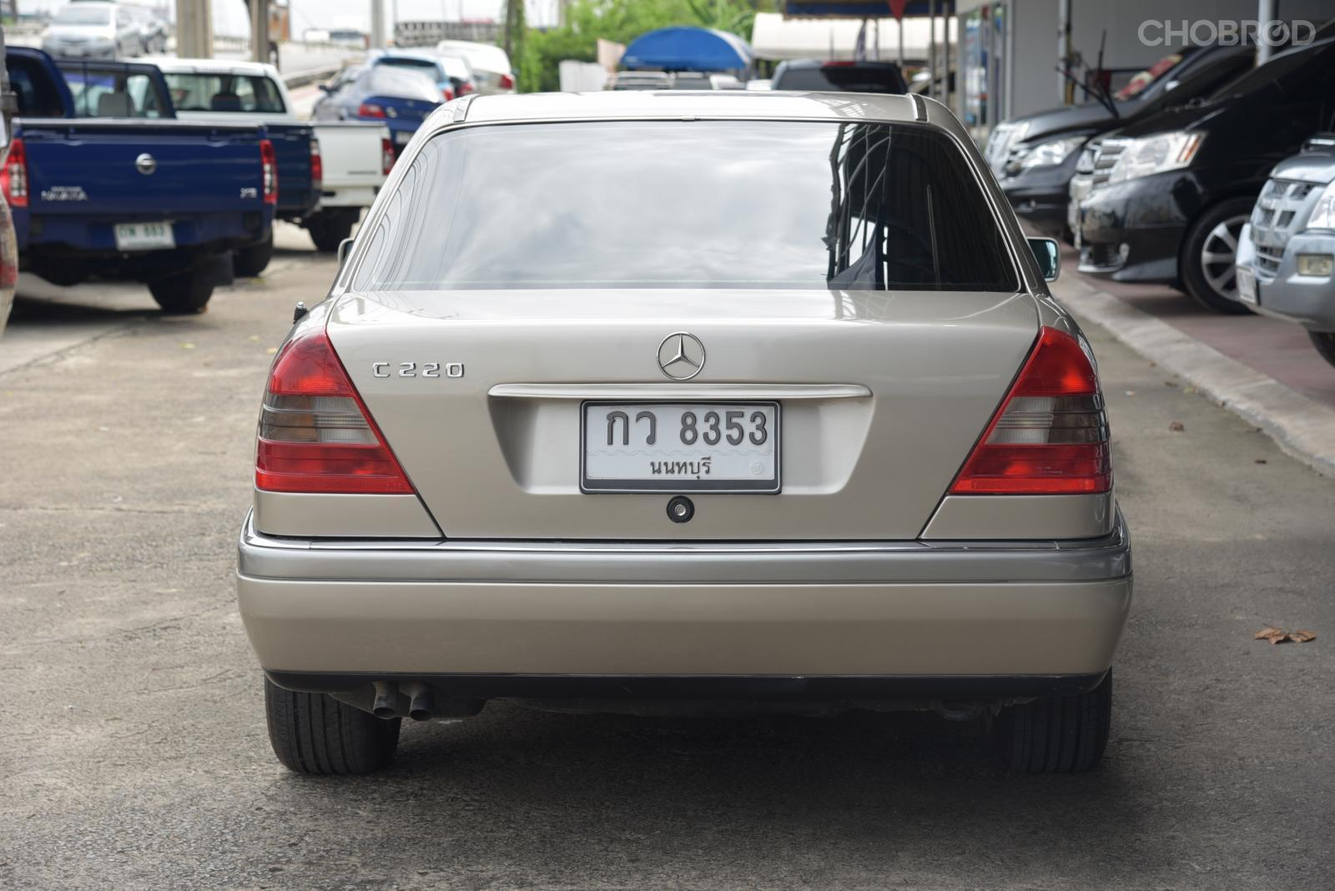license-plate: (569, 393, 799, 505)
